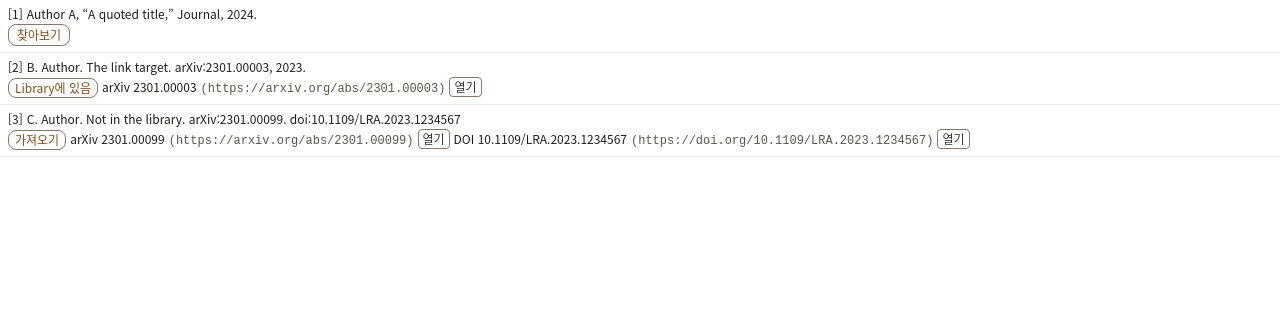
Test: uses the quoted title in a raw bibliography entry (“A quoted title,”)
Click the button with test id "pn-ref-find".
click(39, 35)  # box top-left (8, 24), bottom-right (70, 46)
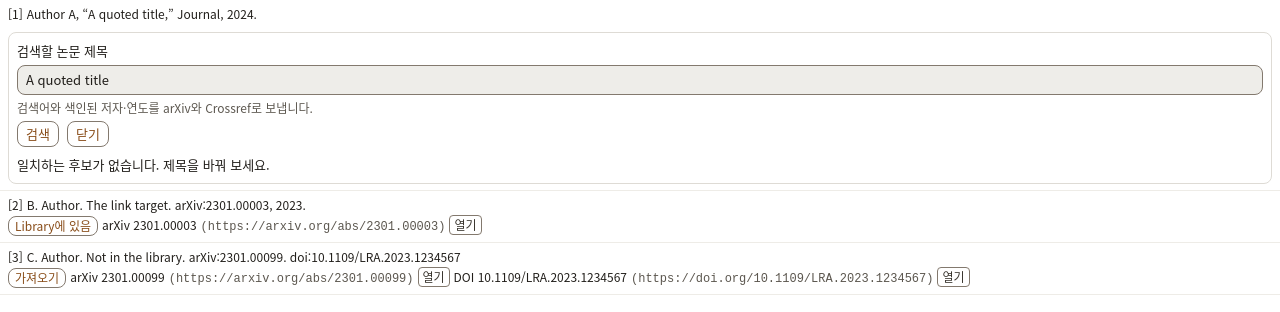
Expected: the message "일치하는 후보가 없습니다. 제목을 바꿔 보세요." is shown, top-left (17, 155), bottom-right (270, 174)
Expected: the search field with test id "pn-ref-query" holds "A quoted title", top-left (17, 65), bottom-right (1263, 95)
